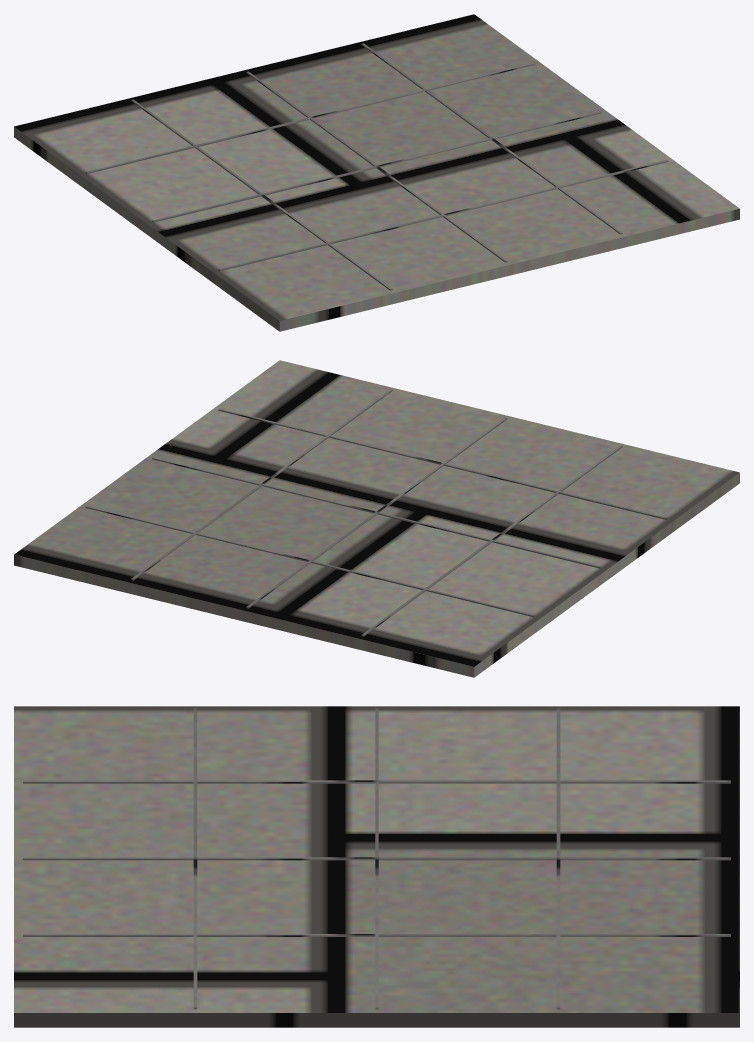
The model's file is CastleKeepFloorL1.glb.
3 renders of one model, top to bottom at view 1: azimuth 30°, elevation 25°; view 2: azimuth 150°, elevation 25°; view 3: azimuth 270°, elevation 25°, orthographic. The views are drawn at different scales.
Visible parts, largest first — view 1: CastleKeepFloorL1; view 2: CastleKeepFloorL1; view 3: CastleKeepFloorL1.
Part boxes in pixels (left/top/right/bottom): CastleKeepFloorL1: left=14, top=14, right=739, bottom=331; CastleKeepFloorL1: left=14, top=360, right=739, bottom=677; CastleKeepFloorL1: left=14, top=706, right=739, bottom=1027.
Size of the model in its own units: 8 by 0.2 by 8.
2 materials, 2 textured.
